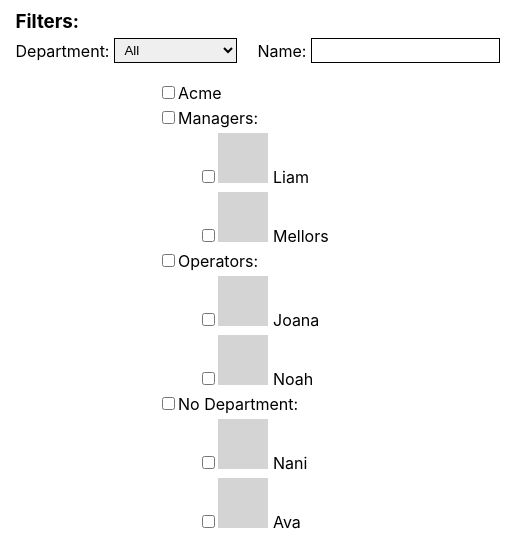
Selecting items › All employees in the Managers department are selected after the department is selected
Click the checkbox labelled "Managers:": (168, 118) 162,111 -> 175,124
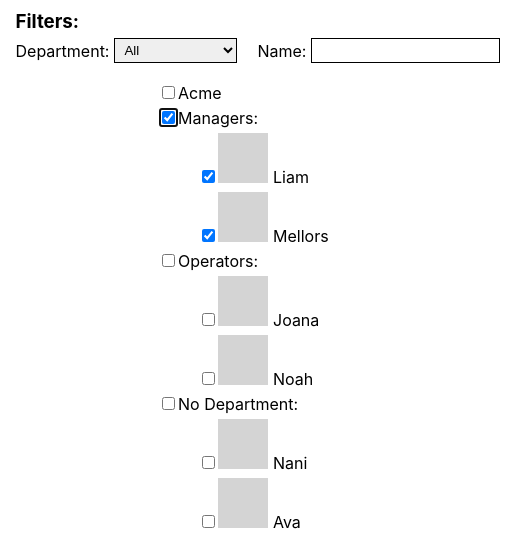
Expected: the checkbox labelled "Liam" is checked, 202,170 -> 215,183
Expected: the checkbox labelled "Mellors" is checked, 202,229 -> 215,242
